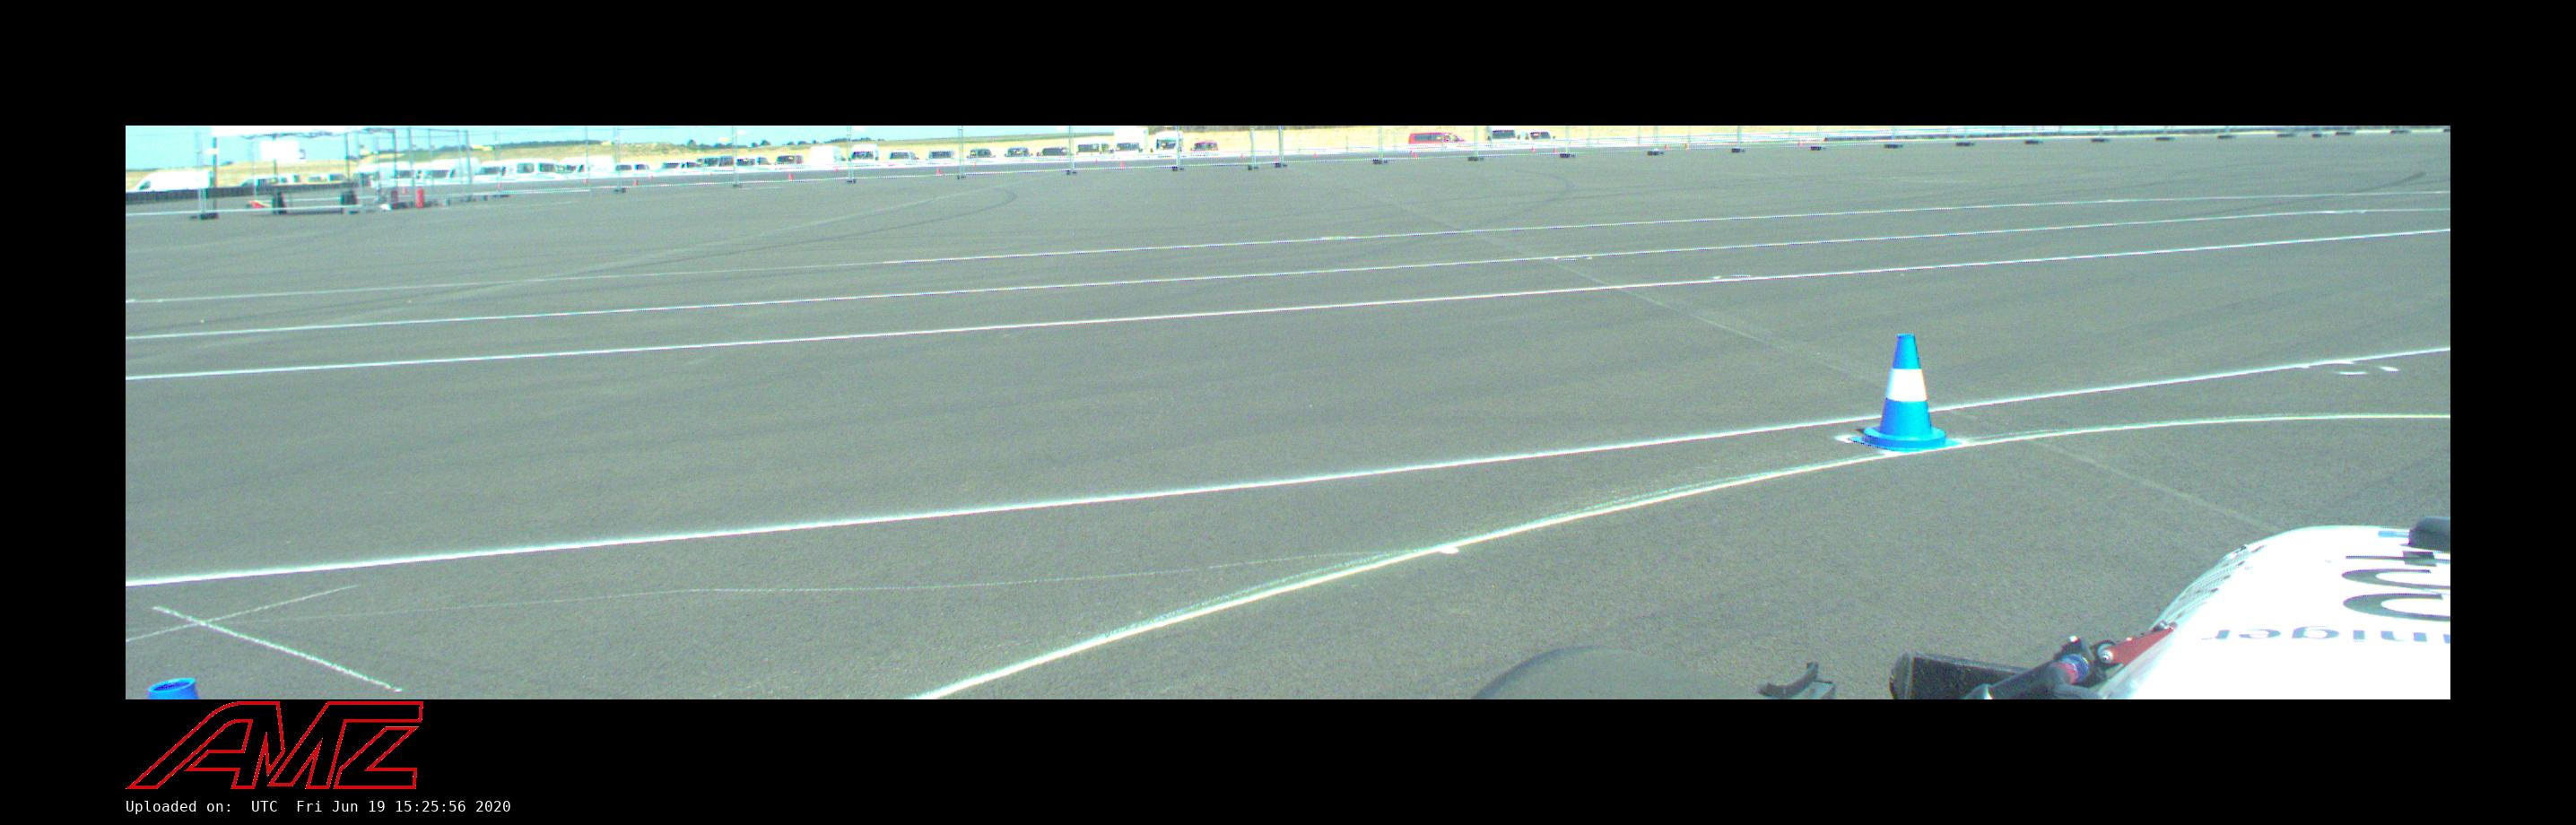blue_cone: (1848, 332, 1963, 454)
